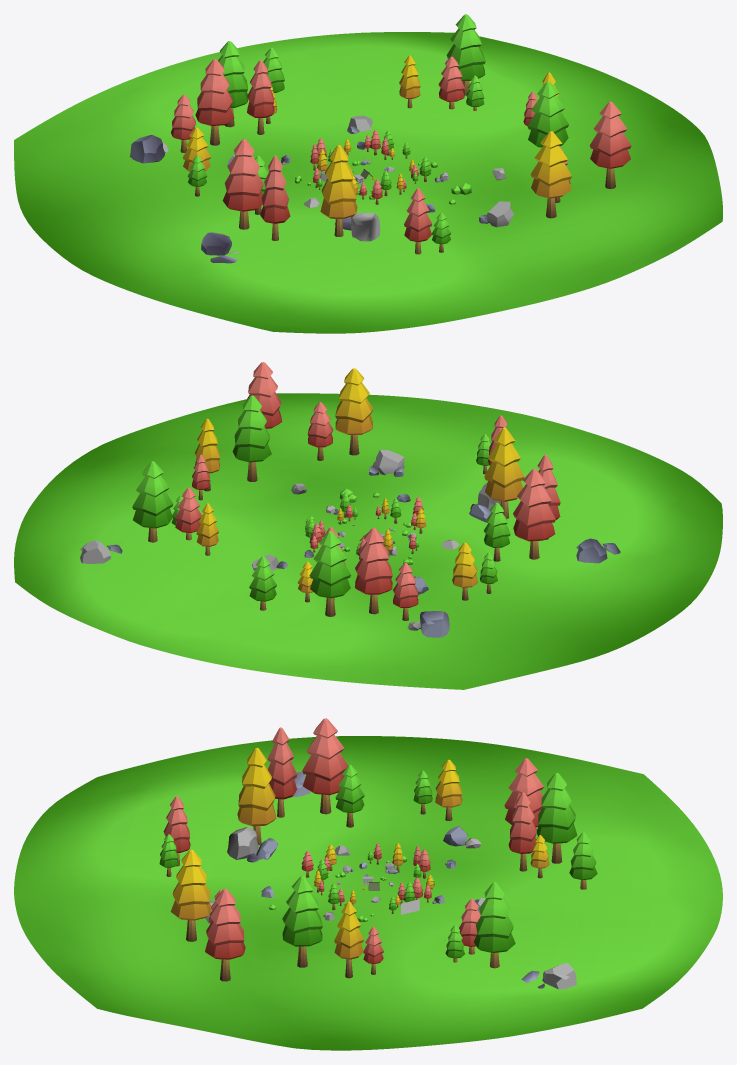
The model's file is Escena1Biodiversidad.glb.
The picture shows the model from 3 angles, top to bottom: view 1: azimuth 30°, elevation 25°; view 2: azimuth 150°, elevation 25°; view 3: azimuth 270°, elevation 25°; orthographic projection. The views are drawn at different scales.
Visible parts, largest first — view 1: Floor, treeRed14, treeRed20, treeYellow10, treeYellow9, treeRed17, treeGreen188, treeGreen21, treeRed13, treeGreen16, treeRed11, treeRed19 (+9 smaller); view 2: Floor, treeRed14, treeYellow9, treeGreen16, treeYellow10, treeRed17, treeGreen188, treeGreen21, treeRed20, treeGreen20, treeRed15, treeRed16 (+10 smaller); view 3: Floor, treeRed14, treeGreen21, treeYellow9, treeRed20, treeYellow10, treeGreen16, treeGreen188, treeRed13, treeRed17, treeRed11, treeYellow11 (+8 smaller).
Part boxes in pixels (<box>): Floor: <box>14,32,722,333</box>; treeRed14: <box>222,139,263,229</box>; treeRed20: <box>589,101,631,188</box>; treeYellow10: <box>530,131,571,218</box>; treeYellow9: <box>320,145,357,236</box>; treeRed17: <box>195,59,234,145</box>; treeGreen188: <box>446,14,485,95</box>; treeGreen21: <box>527,81,568,147</box>; treeRed13: <box>260,156,290,240</box>; treeGreen16: <box>218,41,248,127</box>; treeRed11: <box>247,60,274,134</box>; treeRed19: <box>404,188,431,254</box>; Floor: <box>14,393,722,689</box>; treeRed14: <box>513,469,555,559</box>; treeYellow9: <box>484,427,524,518</box>; treeGreen16: <box>309,531,350,616</box>; treeYellow10: <box>335,368,373,455</box>; treeRed17: <box>355,528,392,614</box>; treeGreen188: <box>132,461,173,542</box>; treeGreen21: <box>232,395,271,481</box>; treeRed20: <box>246,362,282,429</box>; treeGreen20: <box>483,502,510,561</box>; treeRed15: <box>307,402,333,460</box>; treeRed16: <box>393,562,418,620</box>; Floor: <box>14,736,722,1050</box>; treeRed14: <box>302,718,348,814</box>; treeGreen21: <box>282,876,322,967</box>; treeYellow9: <box>237,747,276,845</box>; treeRed20: <box>205,889,245,981</box>; treeYellow10: <box>170,849,211,941</box>; treeGreen16: <box>537,773,577,863</box>; treeGreen188: <box>474,882,515,968</box>; treeRed13: <box>267,727,297,817</box>; treeRed17: <box>504,758,544,827</box>; treeRed11: <box>508,792,536,871</box>; treeYellow11: <box>334,901,363,978</box>.
Bounding box in the file's own units: 568 × 96.57 × 540.
Materials: 12 (8 with a texture image).
